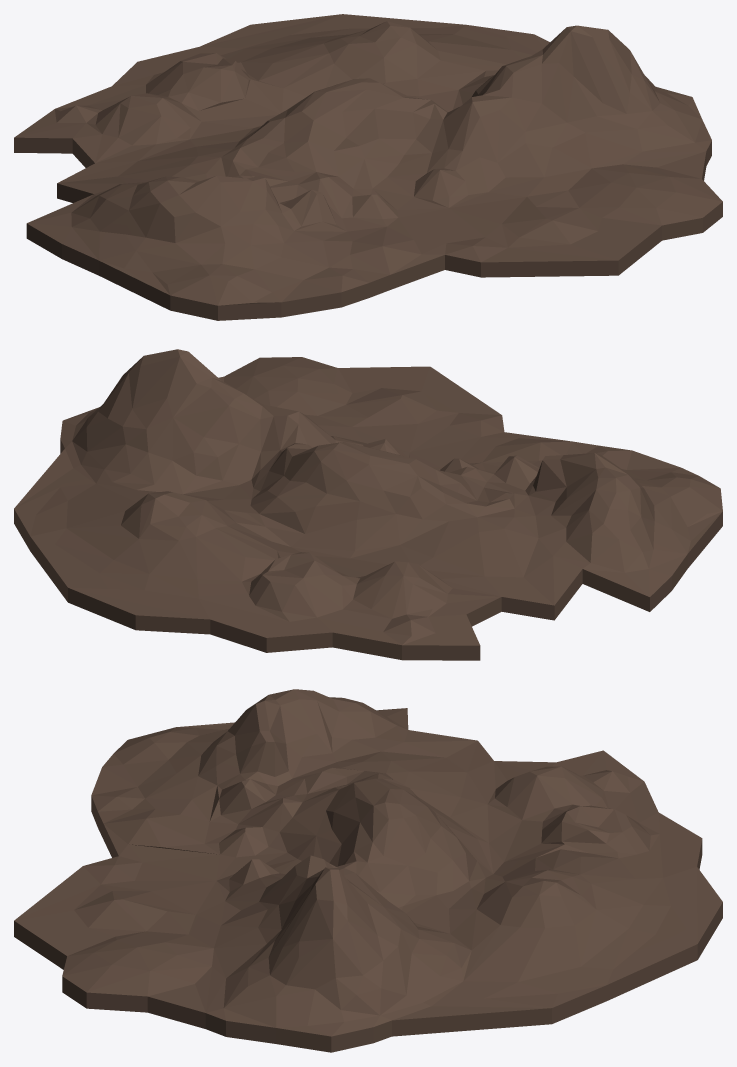
The model's file is delh_terr_01_01.fbx.
The picture shows the model from 3 angles, top to bottom: view 1: azimuth 30°, elevation 25°; view 2: azimuth 150°, elevation 25°; view 3: azimuth 270°, elevation 25°; orthographic projection. The views are drawn at different scales.
Visible parts, largest first — view 1: delh_terr_01_01; view 2: delh_terr_01_01; view 3: delh_terr_01_01.
Part boxes in pixels (x1,y1,x2,y2): delh_terr_01_01: [14, 14, 722, 320]; delh_terr_01_01: [14, 349, 722, 660]; delh_terr_01_01: [14, 689, 722, 1052].
Bounding box in the file's own units: 16663 × 2914 × 15255.
